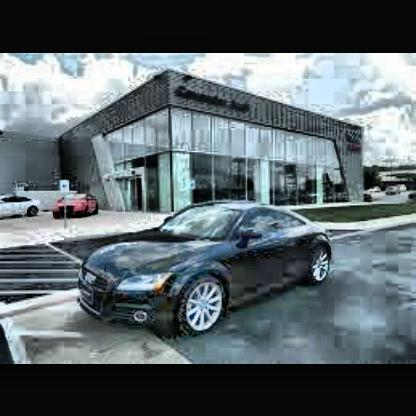Audi TTS Coupe 2012: (76, 200, 336, 338)
